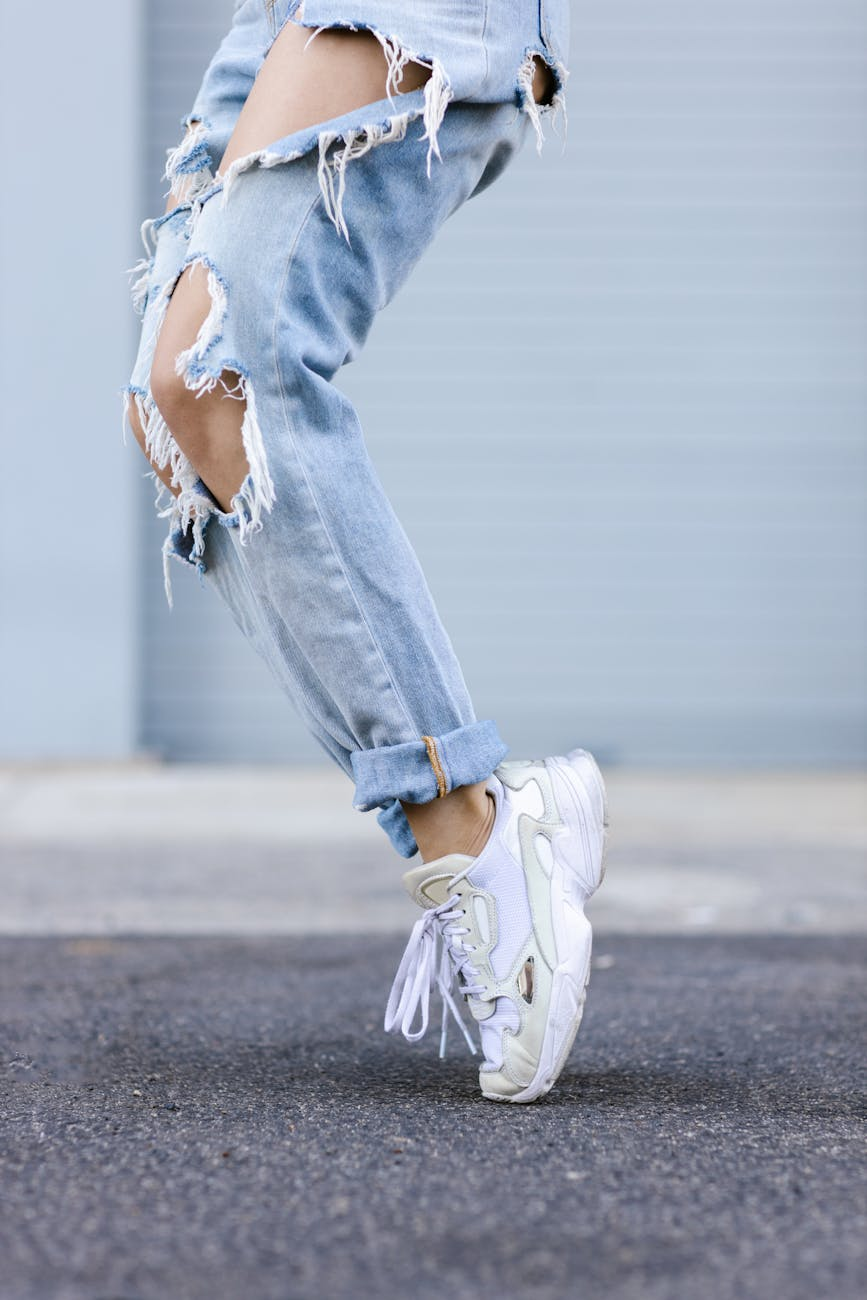ripped_jeans: (138, 38, 561, 865)
